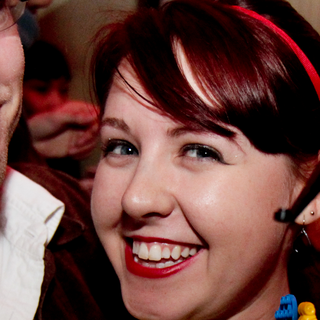eye: (176, 138, 228, 164), (99, 135, 142, 164)
